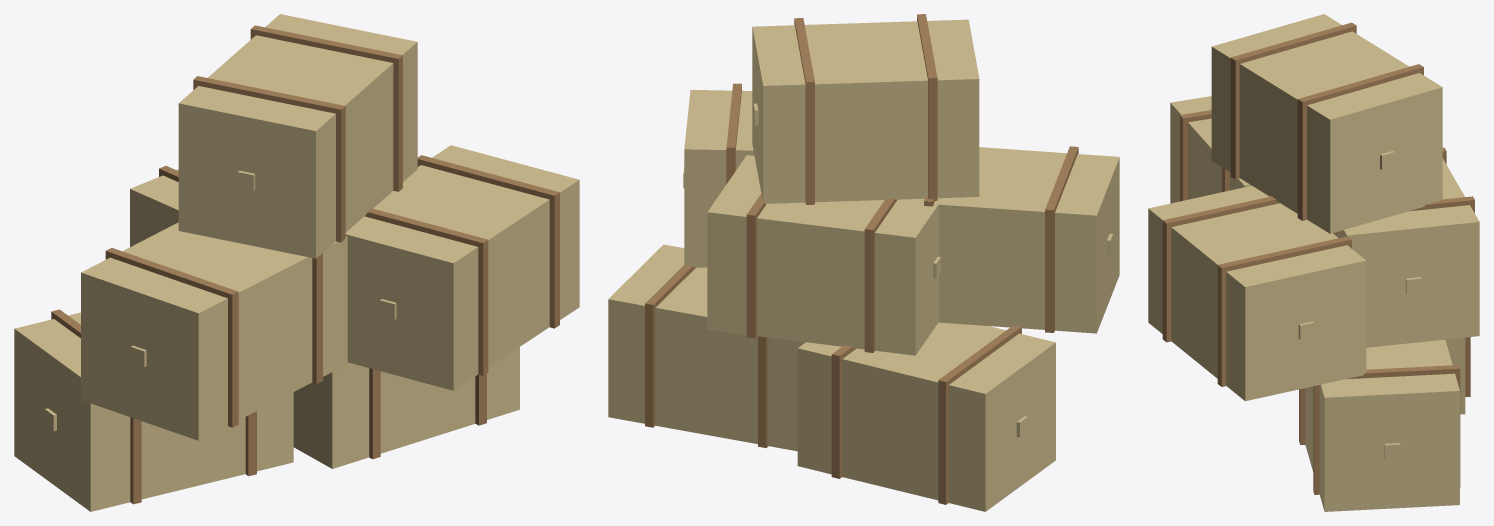
Rendered from hay-bale-stack.glb.
3 views of the same model, side by side, from view 1: azimuth 30°, elevation 25°; view 2: azimuth 150°, elevation 25°; view 3: azimuth 270°, elevation 25° (orthographic). The views are drawn at different scales.
Parts seen in each view (by area): view 1: hay-bale-stack; view 2: hay-bale-stack; view 3: hay-bale-stack.
Part boxes in pixels (x1,y1,x2,y2): hay-bale-stack: (14,14,579,511); hay-bale-stack: (608,14,1119,511); hay-bale-stack: (1148,14,1479,511).
Size of the model in its own units: 2.77 by 2.23 by 1.89.
